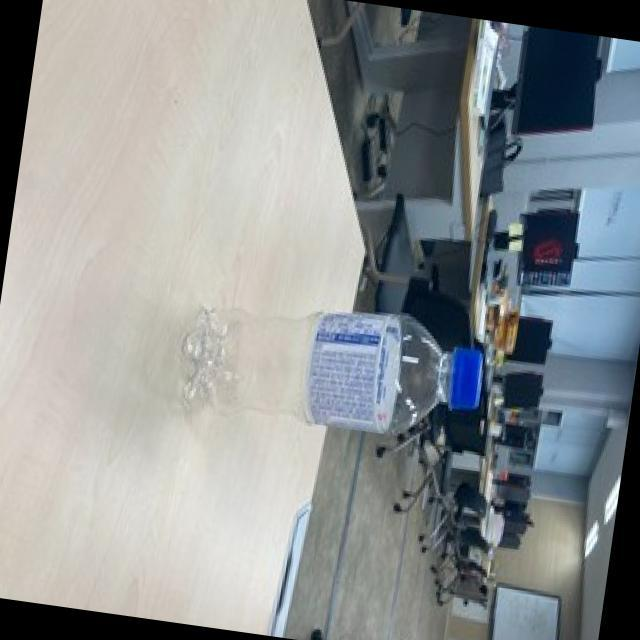good: (163, 281, 498, 454)
